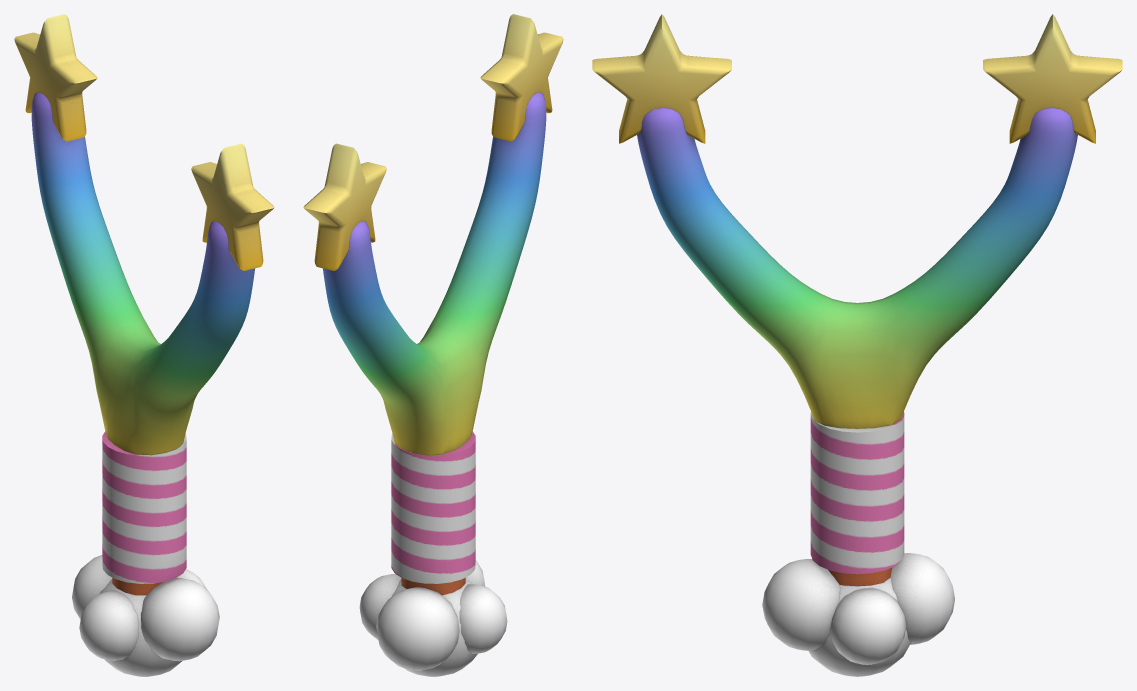
Rendered from Rainbow Slingshot.fbx.
3 views of the same model, side by side, from view 1: azimuth 30°, elevation 25°; view 2: azimuth 150°, elevation 25°; view 3: azimuth 270°, elevation 25° (orthographic). The views are drawn at different scales.
Parts seen in each view (by area): view 1: Rainbow Slingshot; view 2: Rainbow Slingshot; view 3: Rainbow Slingshot.
Part boxes in pixels (x1,y1,x2,y2): Rainbow Slingshot: (14, 14, 274, 676); Rainbow Slingshot: (303, 14, 563, 676); Rainbow Slingshot: (592, 14, 1122, 676).
Size of the model in its own units: 3.4 by 14.75 by 10.86.
1 material, 1 textured.
